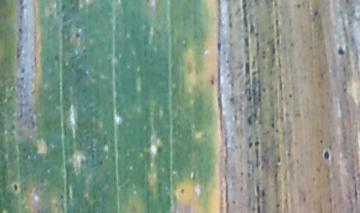tarspot: (336, 46, 346, 56), (323, 150, 330, 161), (246, 116, 253, 126), (12, 183, 19, 192), (74, 32, 82, 39), (286, 91, 293, 99), (261, 86, 268, 93), (254, 139, 260, 147), (248, 140, 254, 148), (313, 10, 319, 17), (209, 79, 215, 86), (180, 187, 185, 195), (296, 3, 302, 8), (17, 28, 23, 33)
